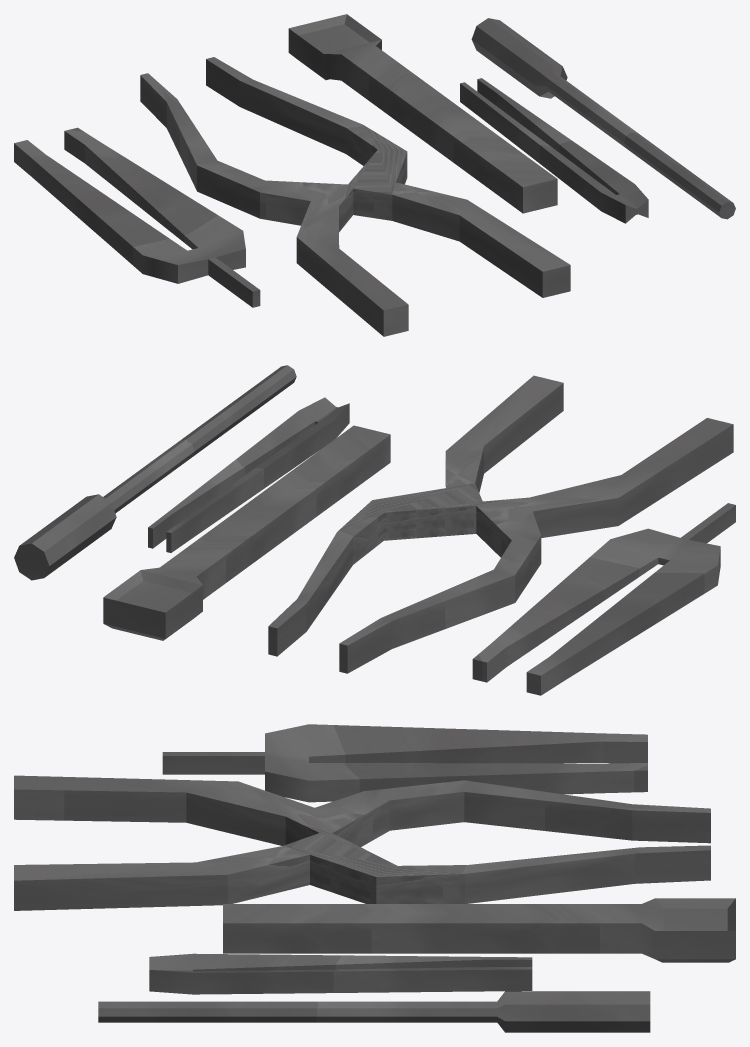
Rendered from 3dmodel_oldlabtools_v1_sc.fbx.
3 renders of one model, top to bottom at view 1: azimuth 30°, elevation 25°; view 2: azimuth 150°, elevation 25°; view 3: azimuth 270°, elevation 25°, orthographic. The views are drawn at different scales.
Visible parts, largest first — view 1: lab_tools; view 2: lab_tools; view 3: lab_tools.
Part boxes in pixels (x1=…): lab_tools: x1=14, y1=14, x2=735, y2=336; lab_tools: x1=14, y1=365, x2=735, y2=695; lab_tools: x1=14, y1=724, x2=735, y2=1032.
Size of the model in its own units: 0.2082 by 0.0147 by 0.2214.
